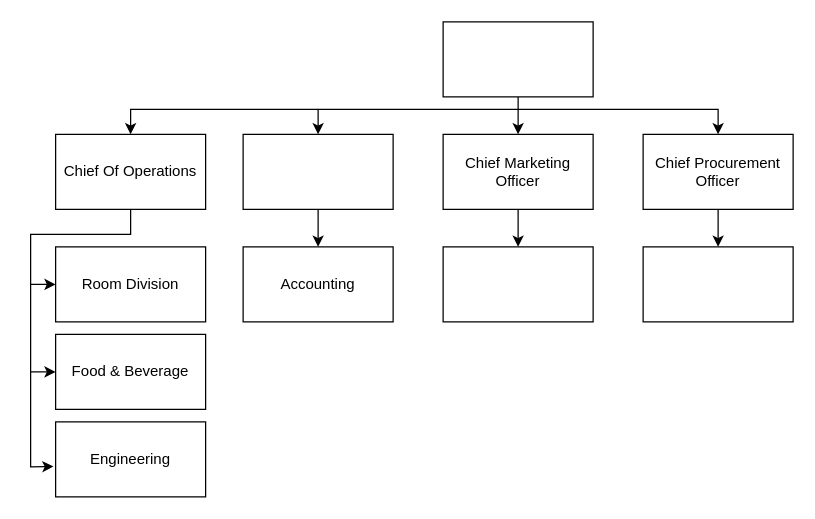
This 815x519 diagram has some shape labels left out. The centre of each missing label's shape, as x and y in pixels:
"Chief Executive Officer" goes at [517,59].
"Chief Financial Officer" goes at [317,171].
"Marketing & Sales" goes at [517,284].
"Purchasing" goes at [717,284].
